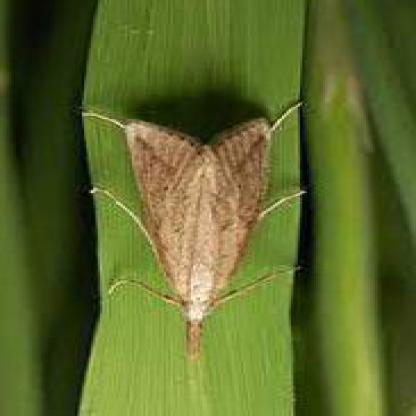stem-borer: (78, 100, 300, 358)
